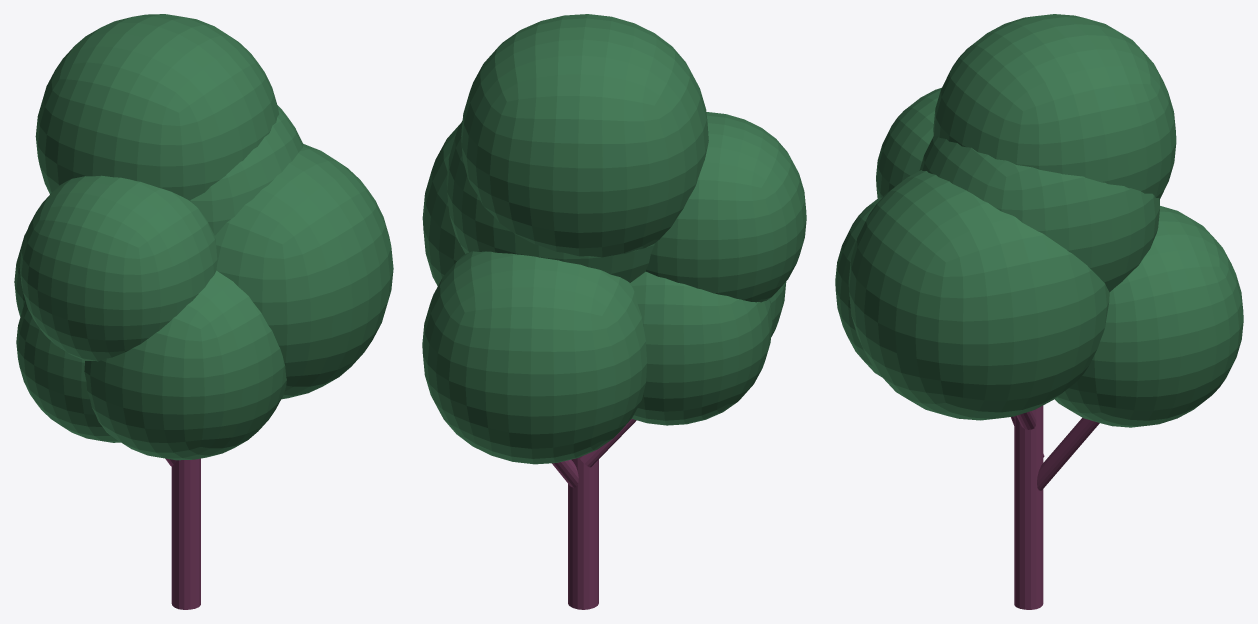
Rendered from Tree5.fbx.
The picture shows the model from 3 angles, left to right: view 1: azimuth 30°, elevation 25°; view 2: azimuth 150°, elevation 25°; view 3: azimuth 270°, elevation 25°; orthographic projection. The views are drawn at different scales.
Visible parts, largest first — view 1: Tree5.004; view 2: Tree5.004; view 3: Tree5.004.
Part boxes in pixels (<box>): Tree5.004: <box>14,14,393,609</box>; Tree5.004: <box>422,14,806,609</box>; Tree5.004: <box>835,14,1243,609</box>.
Size of the model in its own units: 8.18 by 13.05 by 8.48.
